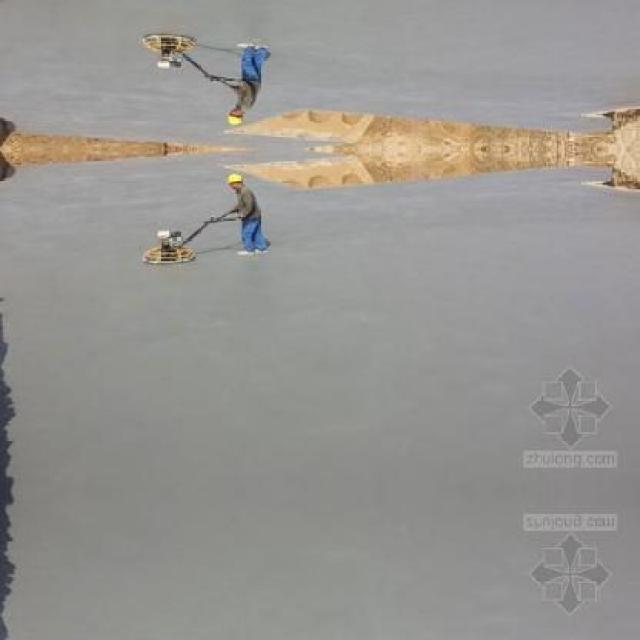helmet: (226, 103, 246, 125), (226, 171, 246, 192)
